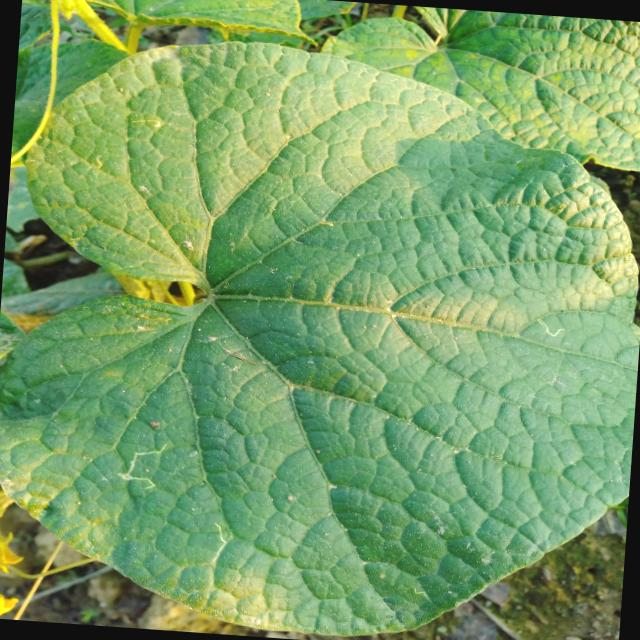cucumber_healthy: (0, 21, 640, 640), (303, 0, 640, 171), (86, 0, 320, 47)
